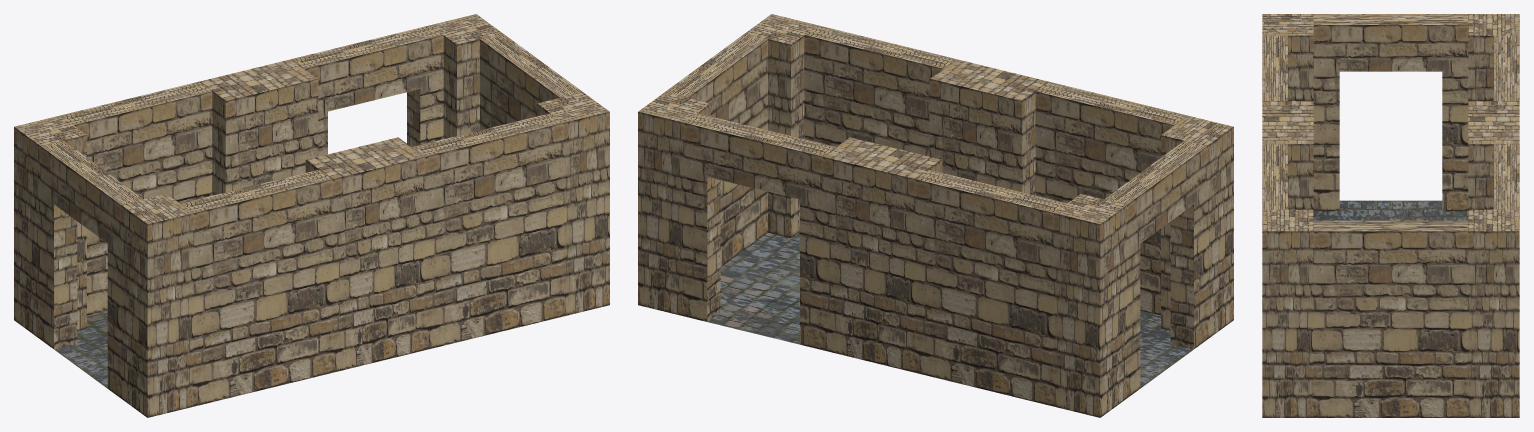
Rendered from 1_LDoorHallwayConnector.fbx.
3 renders of one model, left to right at view 1: azimuth 30°, elevation 25°; view 2: azimuth 150°, elevation 25°; view 3: azimuth 270°, elevation 25°, orthographic. The views are drawn at different scales.
Parts seen in each view (by area): view 1: Cube_6, Plane; view 2: Cube_6, Plane; view 3: Cube_6, Plane.
Part boxes in pixels (x1,y1,x2,y2): Cube_6: [14, 14, 609, 417]; Plane: [54, 310, 107, 388]; Cube_6: [638, 14, 1233, 417]; Plane: [708, 232, 1193, 388]; Cube_6: [1262, 14, 1519, 417]; Plane: [1313, 200, 1468, 220].
Size of the model in its own units: 20 by 8 by 10.
2 materials, 2 textured.
